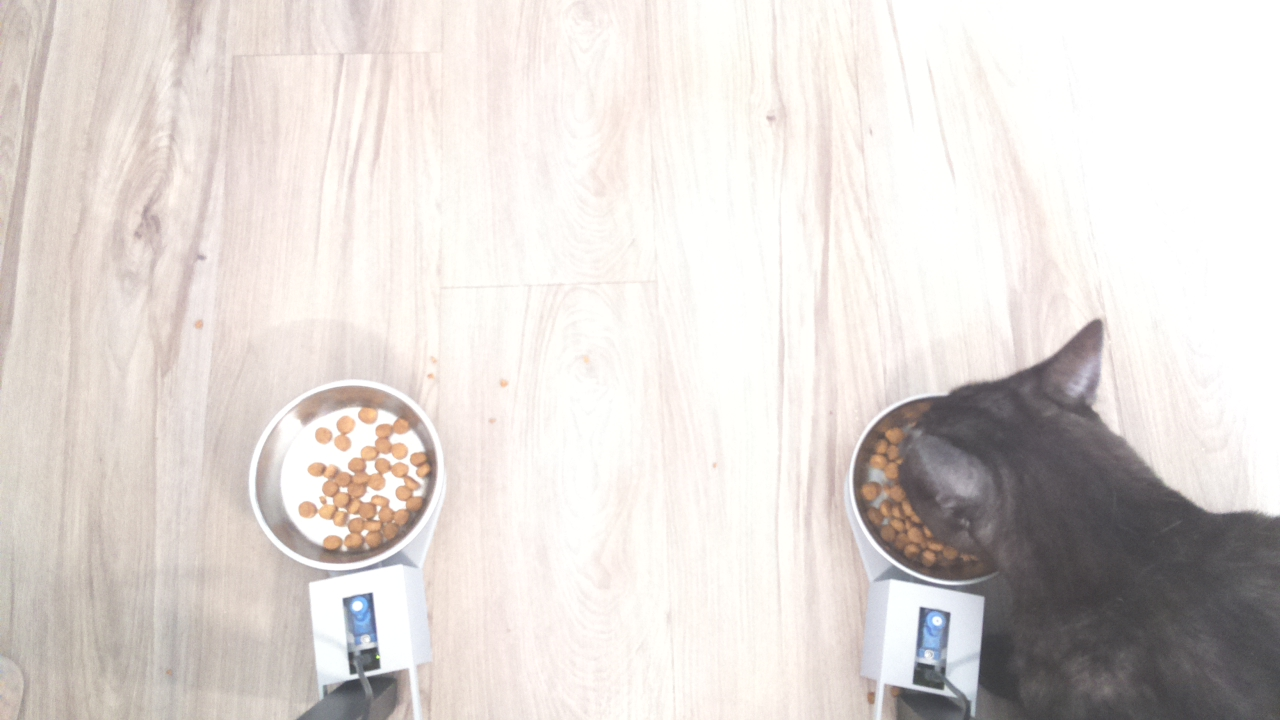open_bowl: (248, 369, 459, 576)
saki_eating: (847, 314, 1169, 614)
